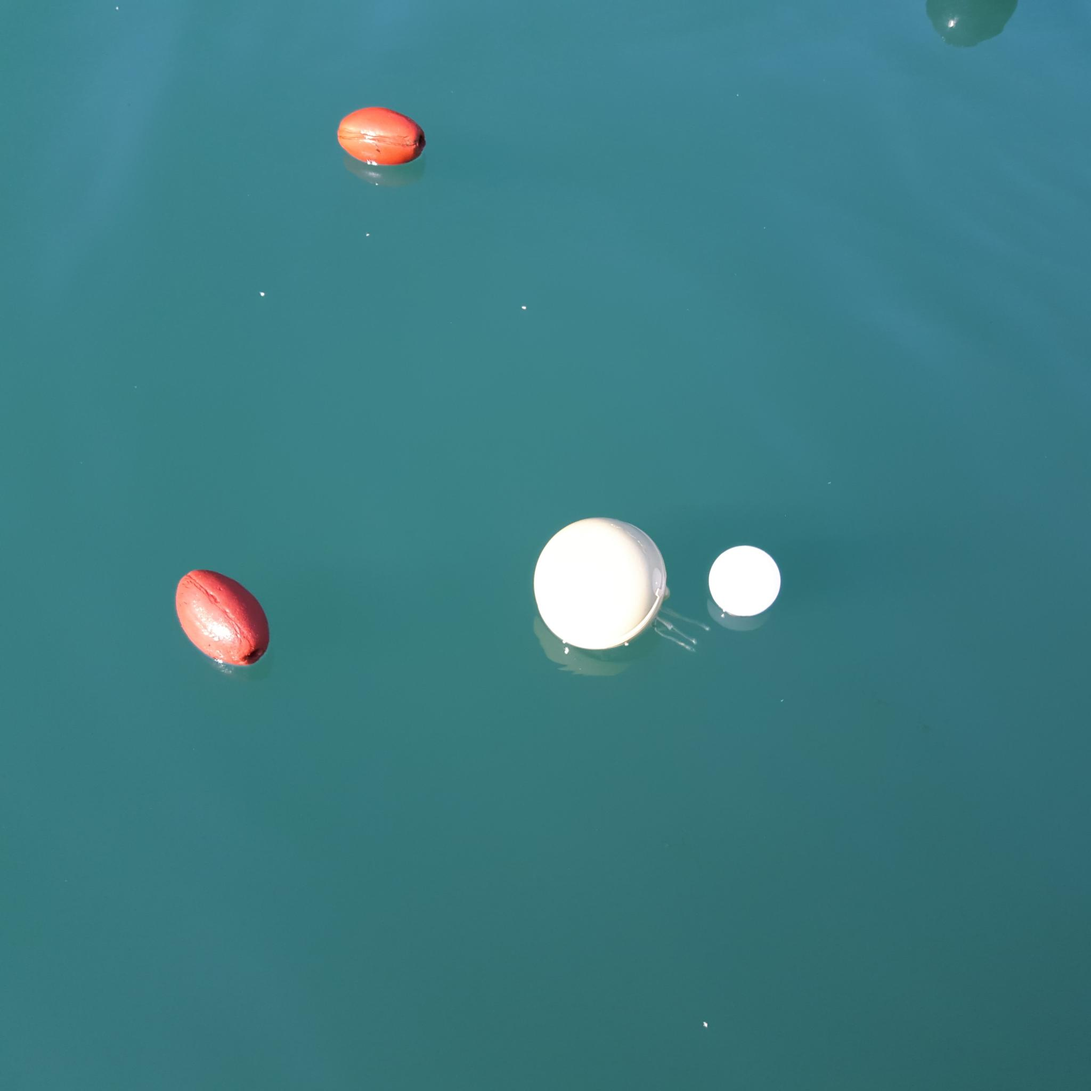sampah_terapung: (534, 517, 671, 651), (176, 570, 270, 667), (709, 545, 782, 617), (338, 108, 426, 166), (650, 605, 711, 653)
